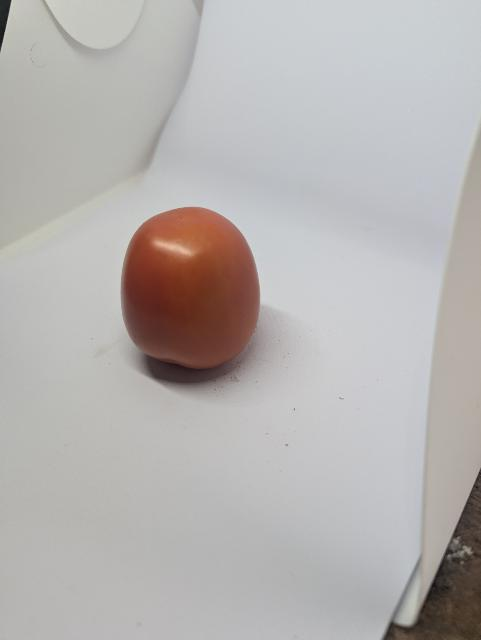red: (110, 201, 270, 391)
